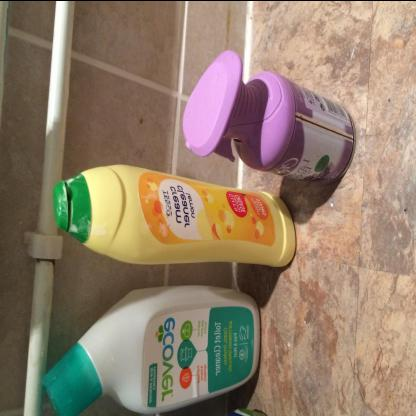metal: (180, 47, 356, 184)
plastik: (41, 282, 262, 413), (50, 160, 298, 268)
